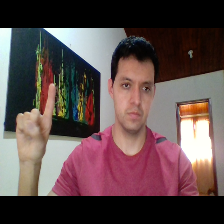2T: (11, 80, 66, 172)
